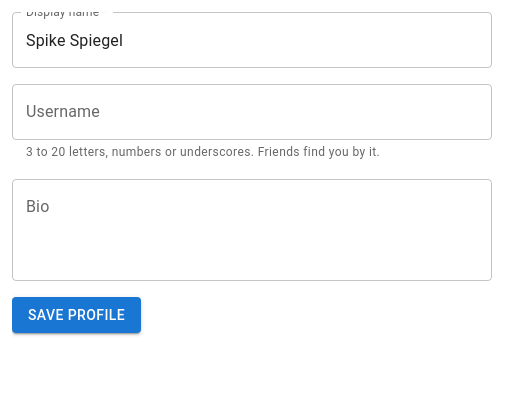
Scenario: ProfileForm › shows an error that belongs to no field
In the text box labelled "Bio": (252, 230) [26,195,478,264], type "hi"
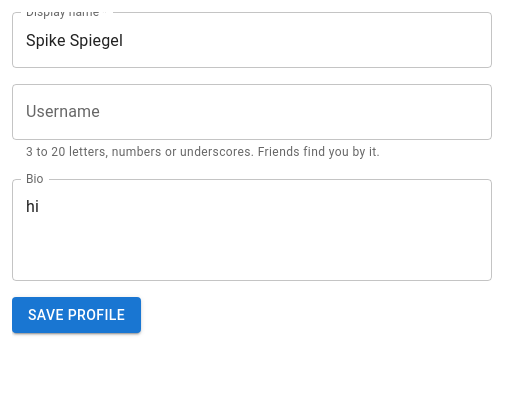
Click the button "Save profile": (76, 315) [12,297,141,333]
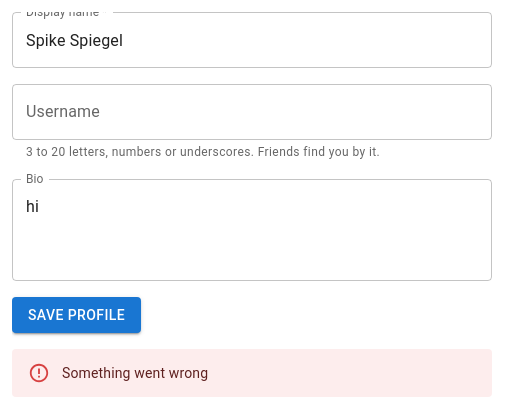
Expected: the text "Something went wrong" is shown, [62,365,208,381]
